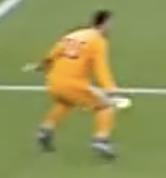goalkeeper: (15, 0, 160, 164)
